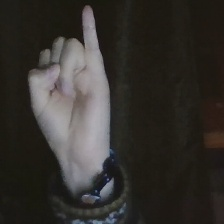I: (20, 1, 120, 149)
